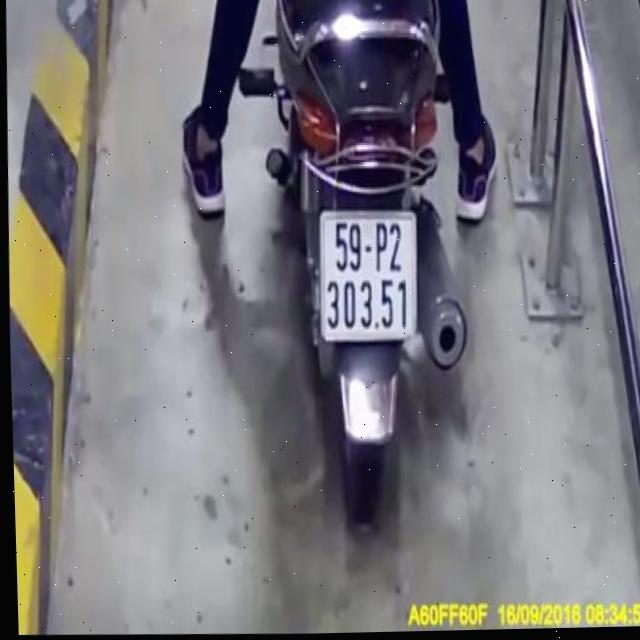motorcycle: (250, 0, 485, 528)
plate: (312, 206, 423, 340)
